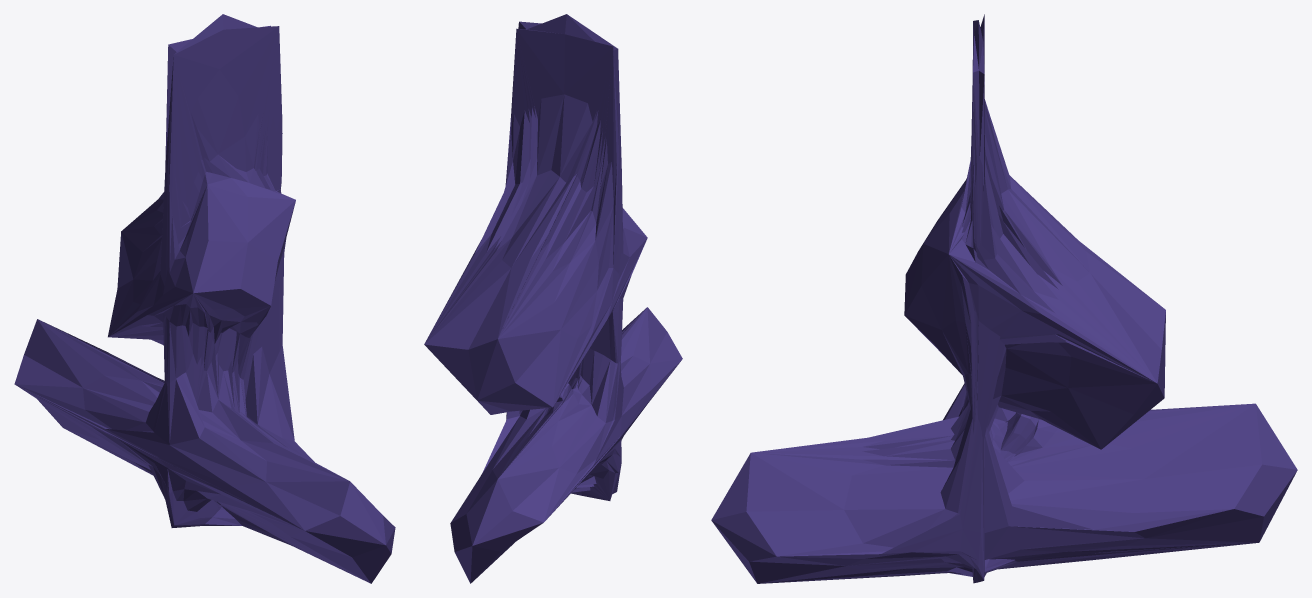
3 renders of one model, left to right at view 1: azimuth 30°, elevation 25°; view 2: azimuth 150°, elevation 25°; view 3: azimuth 270°, elevation 25°, orthographic. The views are drawn at different scales.
Parts seen in each view (by area): view 1: 908_Cube.3665; view 2: 908_Cube.3665; view 3: 908_Cube.3665.
Boxes of the visible parts, bbox=[...] form: 908_Cube.3665: bbox=[14, 14, 395, 583]; 908_Cube.3665: bbox=[424, 14, 682, 583]; 908_Cube.3665: bbox=[711, 14, 1297, 583].
Bounding box in the file's own units: 4.24 × 12.08 × 11.82.
